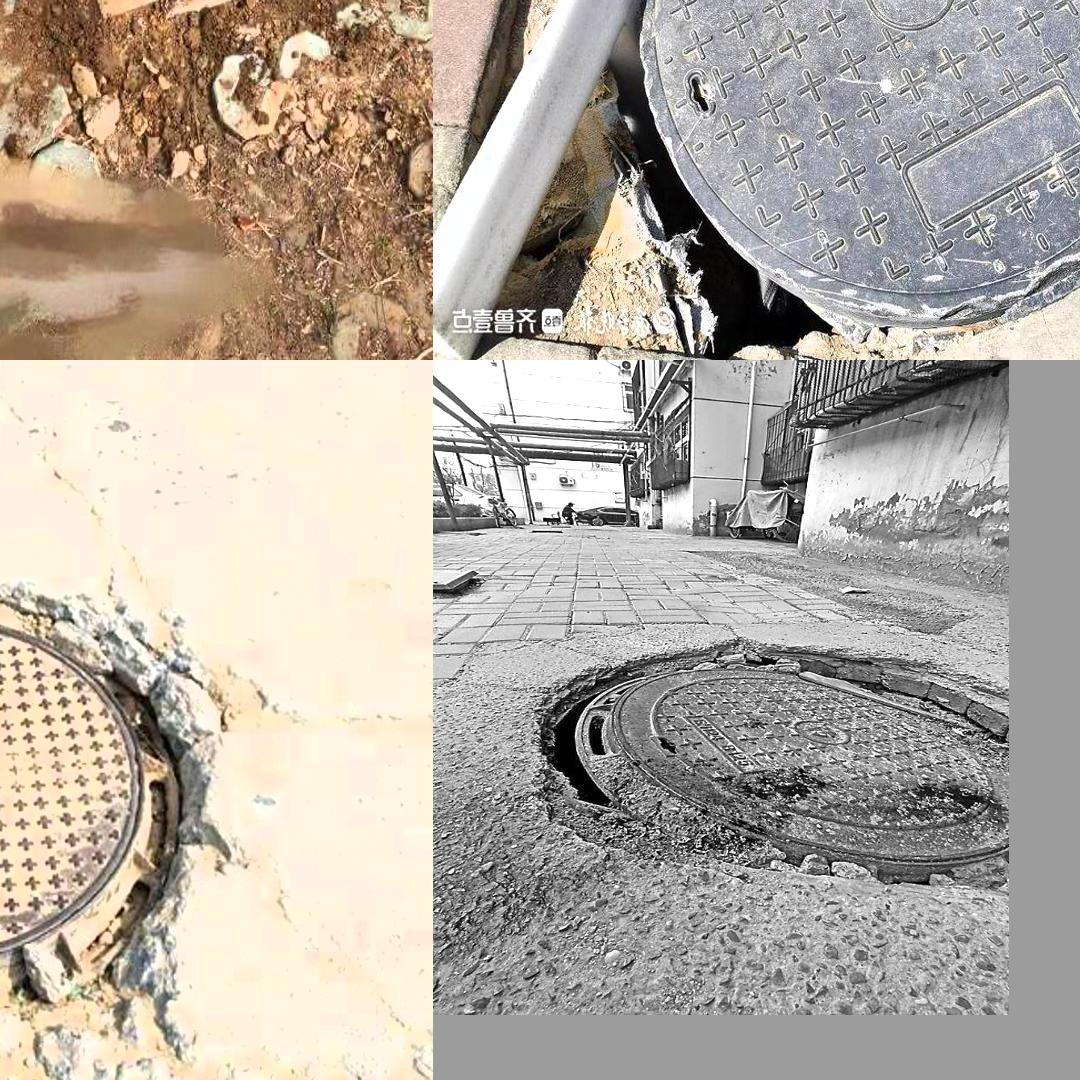circle: (492, 0, 1080, 340), (508, 623, 1007, 961), (0, 533, 265, 1074), (0, 0, 332, 65)
